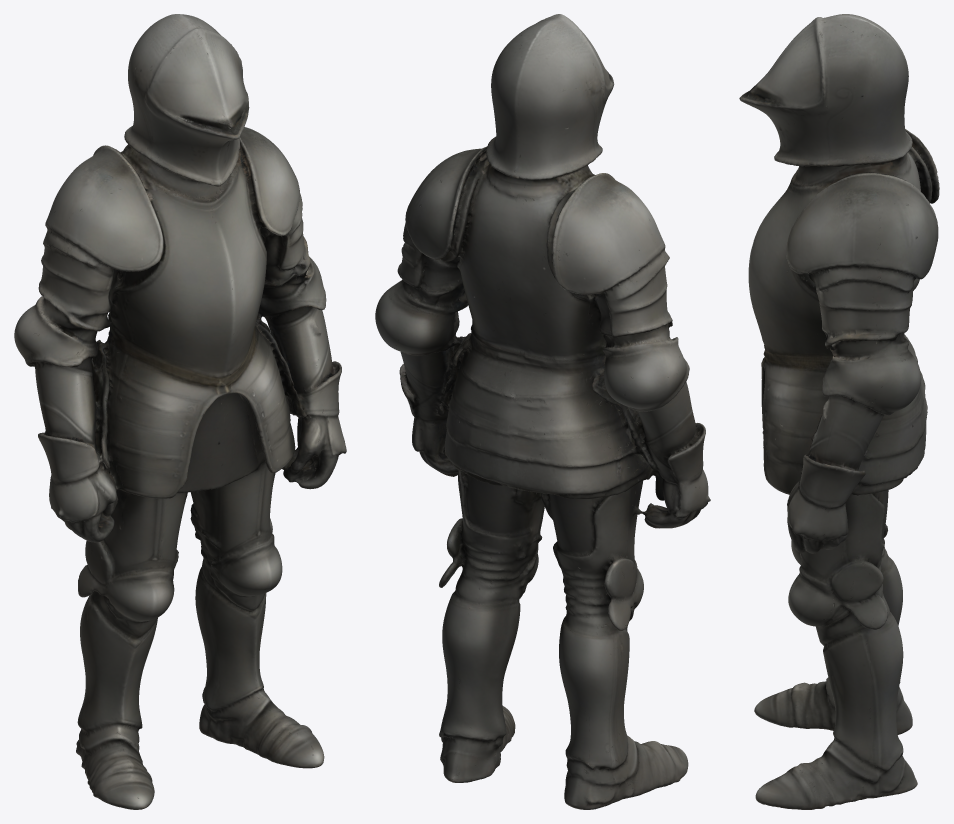
File: ArmaduraMetal.glb
The picture shows the model from 3 angles, left to right: view 1: azimuth 30°, elevation 25°; view 2: azimuth 150°, elevation 25°; view 3: azimuth 270°, elevation 25°; orthographic projection.
Bounding box in the file's own units: 0.838 × 2 × 0.4891.
Materials: 1 (1 with a texture image).
